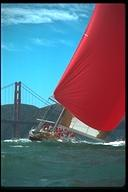sailboat: (26, 3, 126, 145)
sky: (2, 4, 56, 81)
water: (2, 146, 125, 185)
